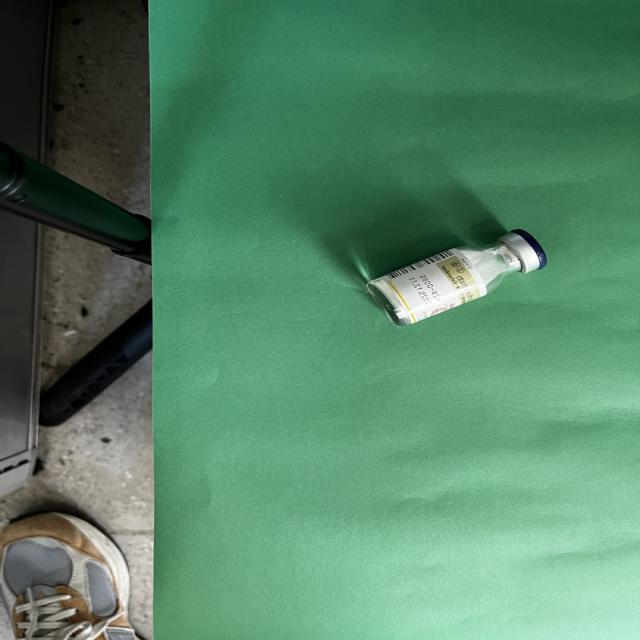Vials: (366, 228, 548, 327)
